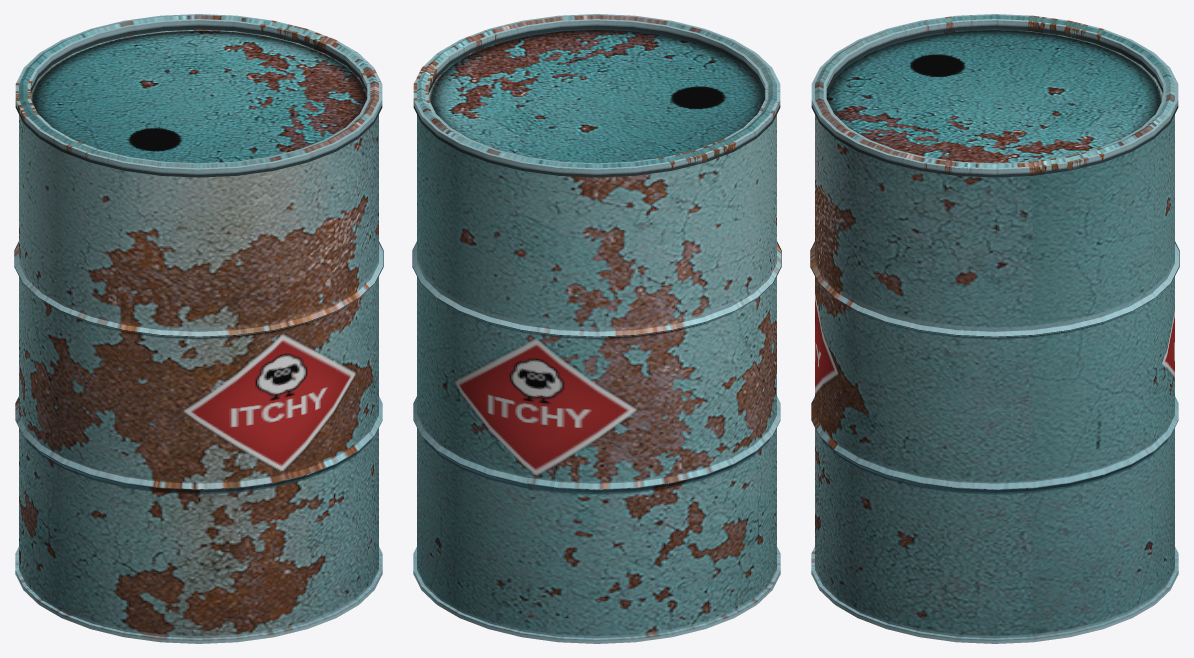
Rendered from BarrelModel.fbx.
3 views of the same model, side by side, from view 1: azimuth 30°, elevation 25°; view 2: azimuth 150°, elevation 25°; view 3: azimuth 270°, elevation 25° (orthographic).
Visible parts, largest first — view 1: pCylinder1; view 2: pCylinder1; view 3: pCylinder1.
Boxes of the visible parts, x1=… form: pCylinder1: x1=14, y1=14, x2=383, y2=643; pCylinder1: x1=412, y1=14, x2=781, y2=643; pCylinder1: x1=810, y1=14, x2=1179, y2=643.
Size of the model in its own units: 8.63 by 12.25 by 8.58.
Materials: 1 (1 with a texture image).
